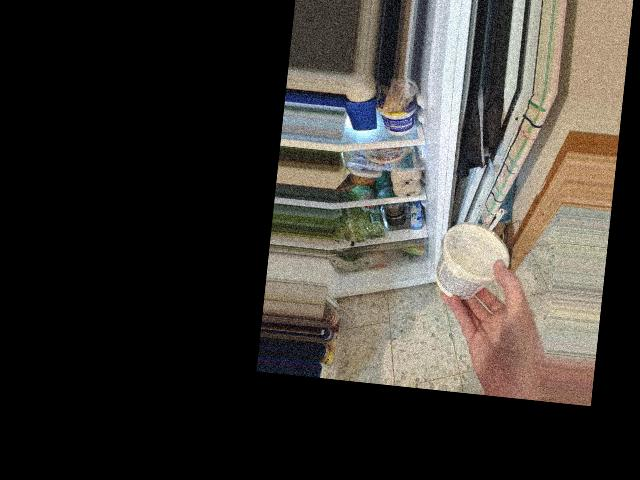cotage: (433, 222, 520, 310)
